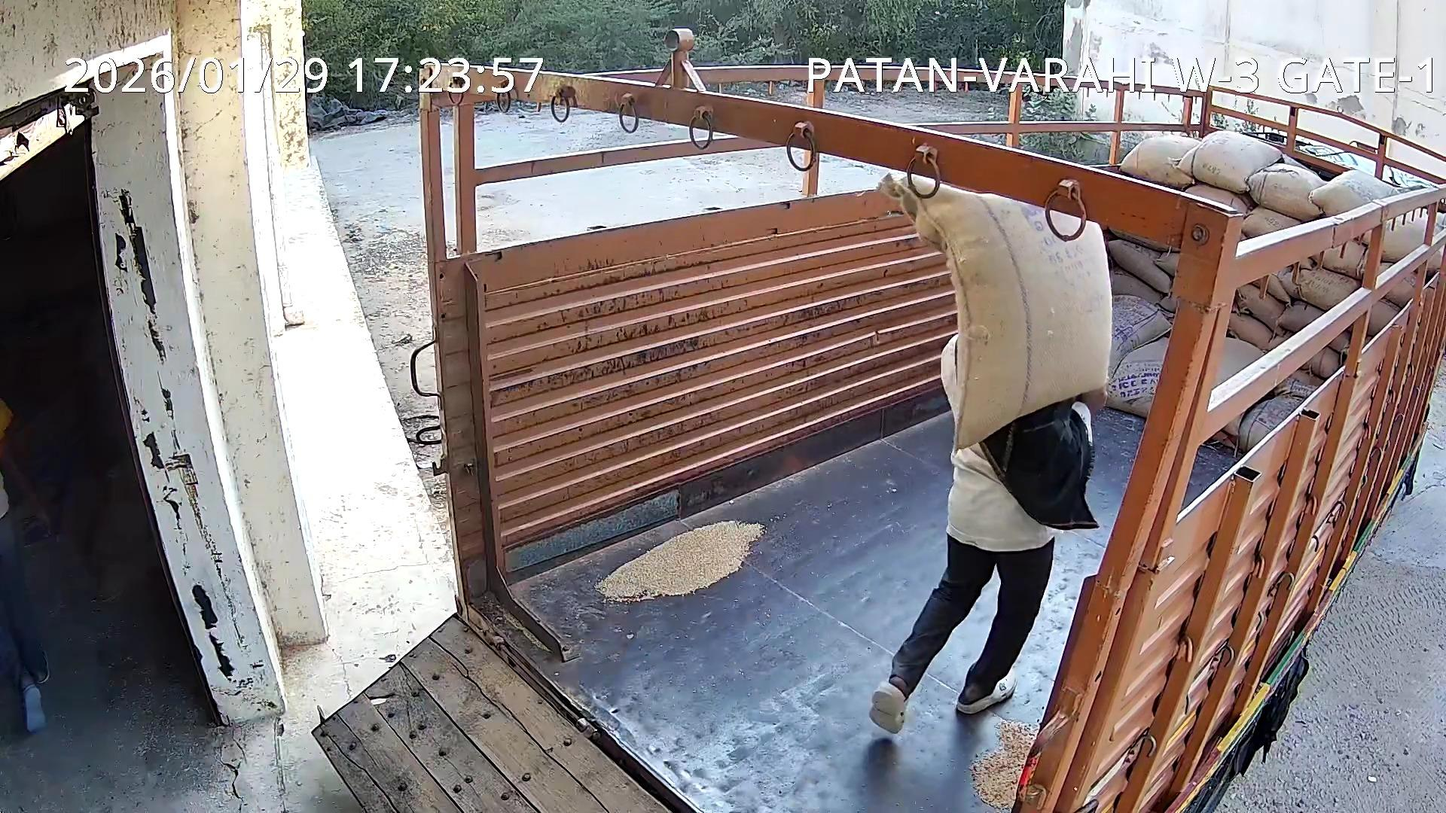Sack: (878, 175, 1111, 449)
